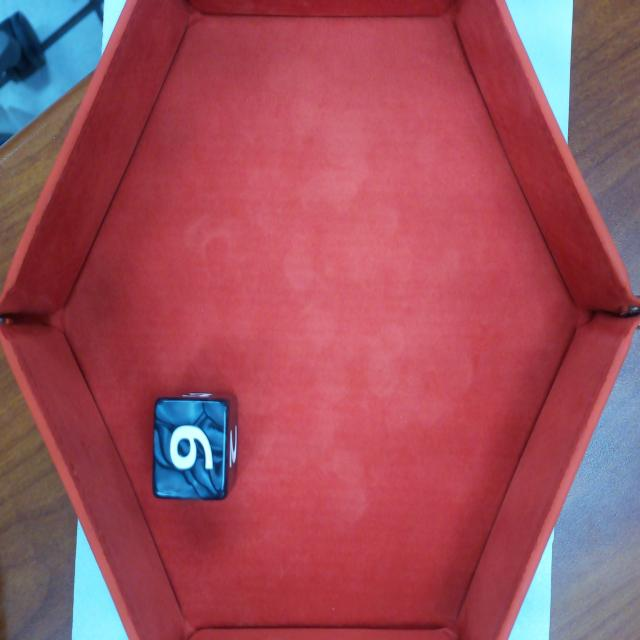dice: (151, 396, 229, 502)
